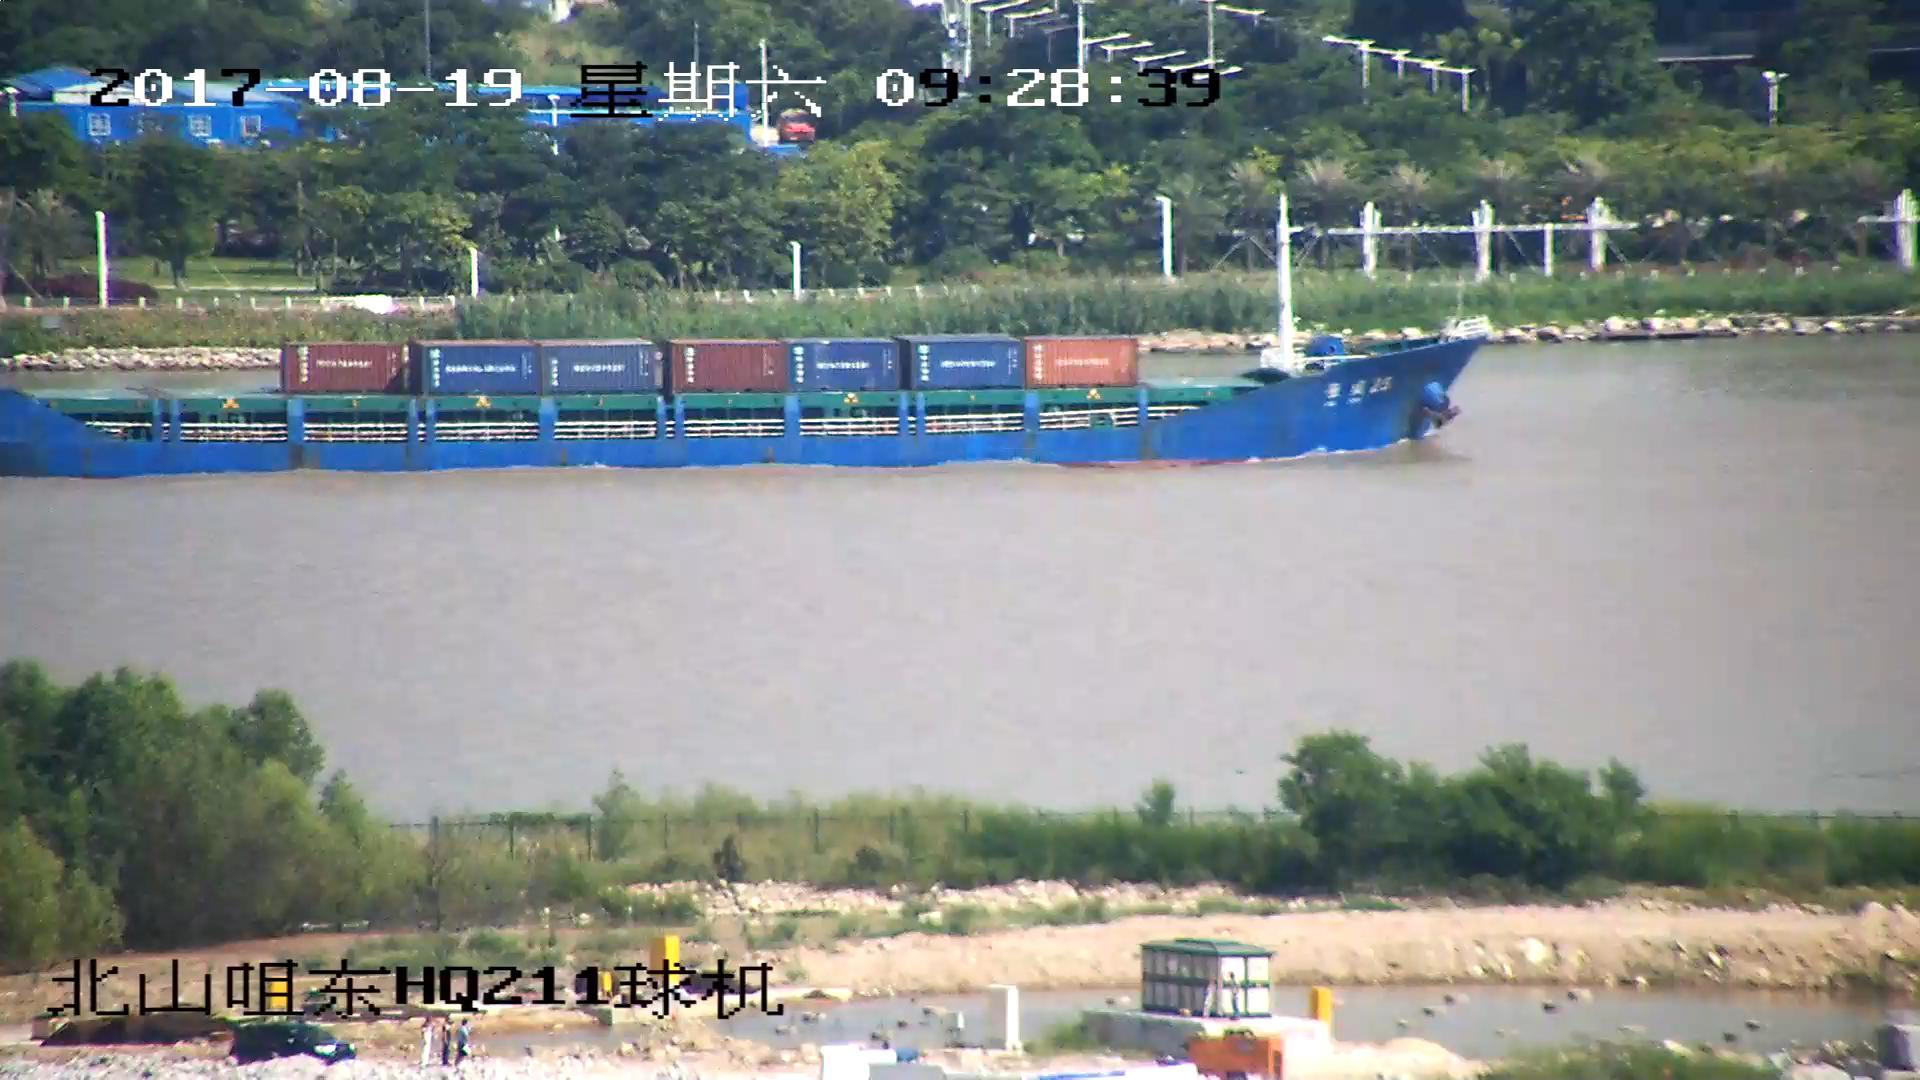Ship: (3, 193, 1493, 471)
